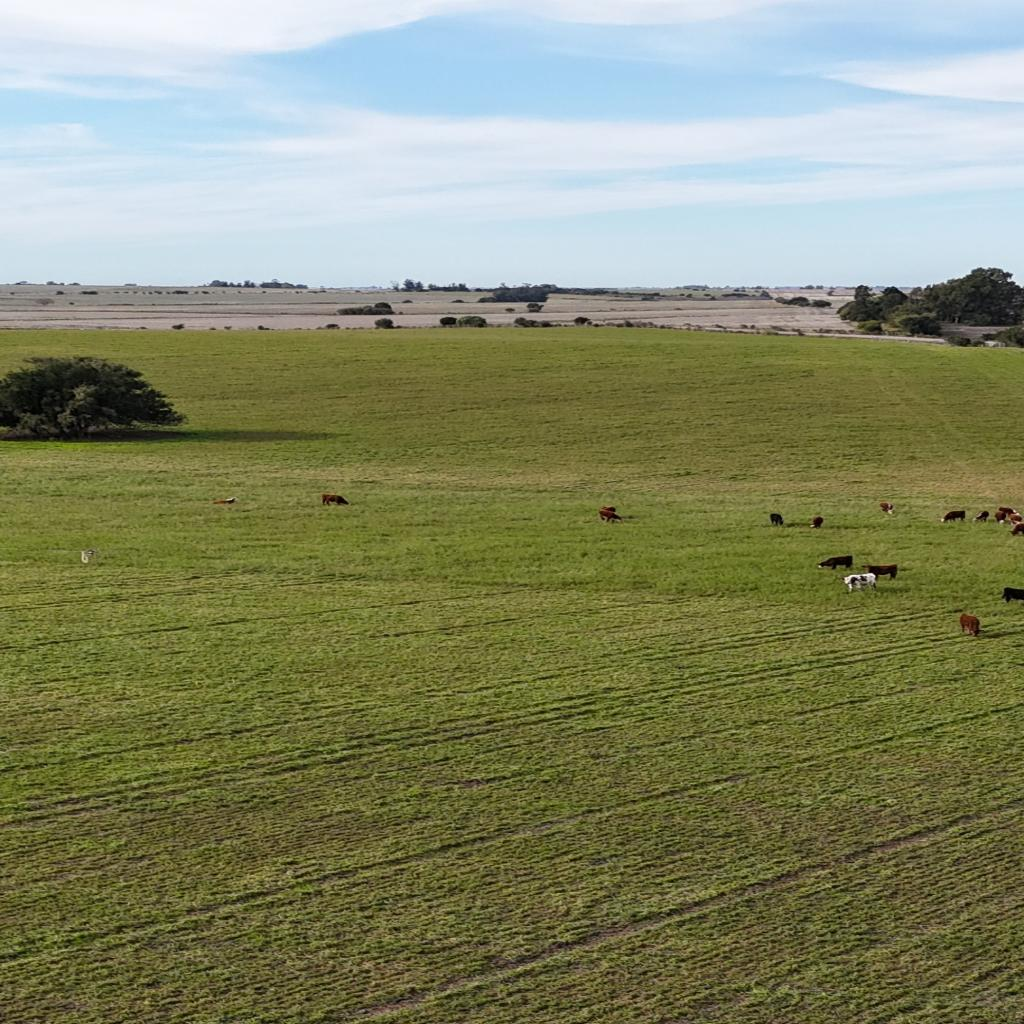cow: (842, 574, 878, 592), (958, 611, 982, 637), (816, 554, 852, 570), (862, 564, 900, 578), (598, 507, 623, 523), (1001, 587, 1024, 603), (938, 510, 966, 523), (320, 494, 350, 506), (1008, 520, 1024, 536), (212, 496, 240, 504), (972, 510, 990, 522), (994, 510, 1008, 524), (768, 513, 783, 525), (1006, 513, 1022, 524), (810, 516, 824, 528), (879, 502, 892, 512), (936, 512, 948, 522)
